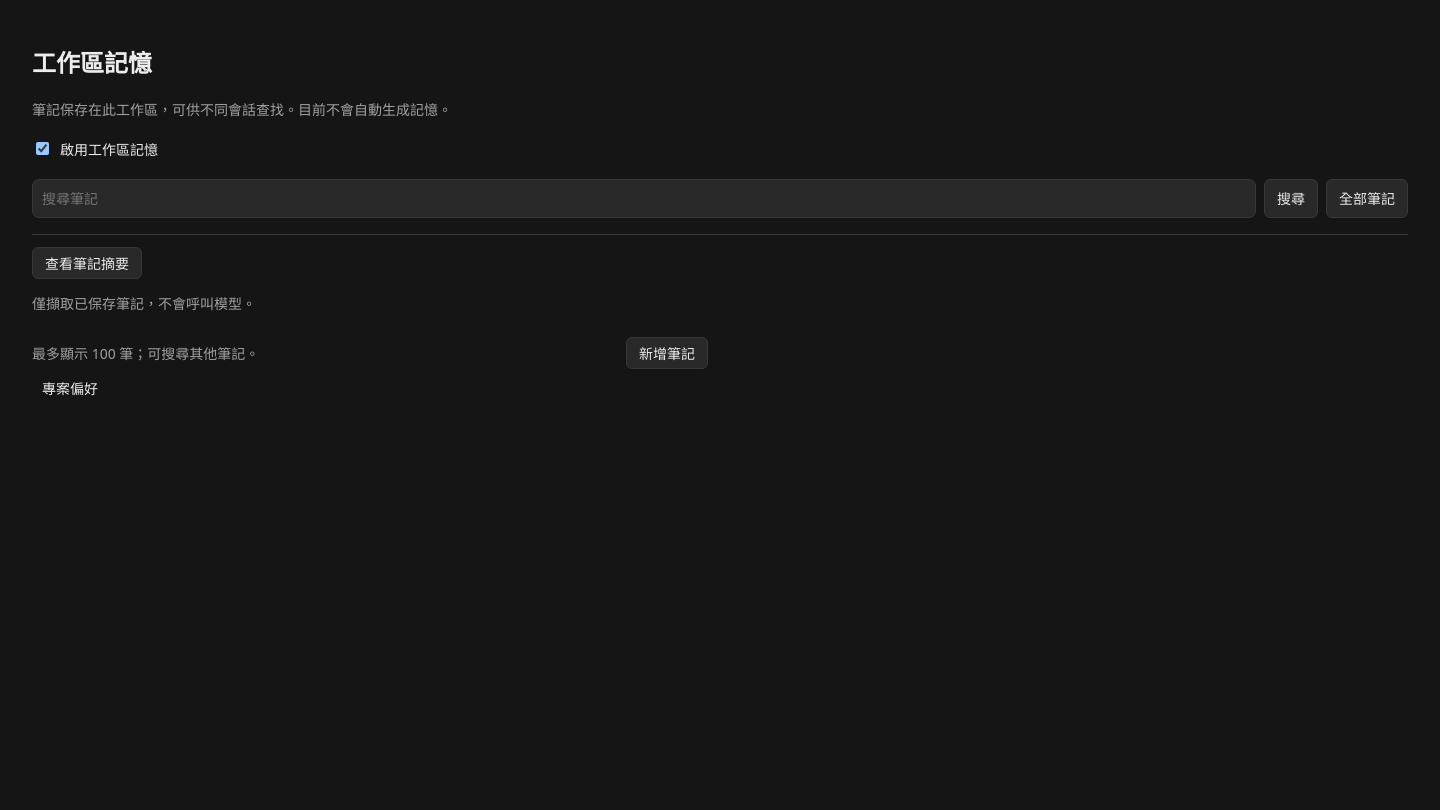
Scenario: workspace memory › opens a new-note editor only on request and preserves a draft when closed
Expected: the button "專案偏好" is shown, 32,369 -> 708,407
Expected: the field labelled "標題" is not shown
Click the button "新增筆記" at (667, 353), box 626,337 -> 708,369
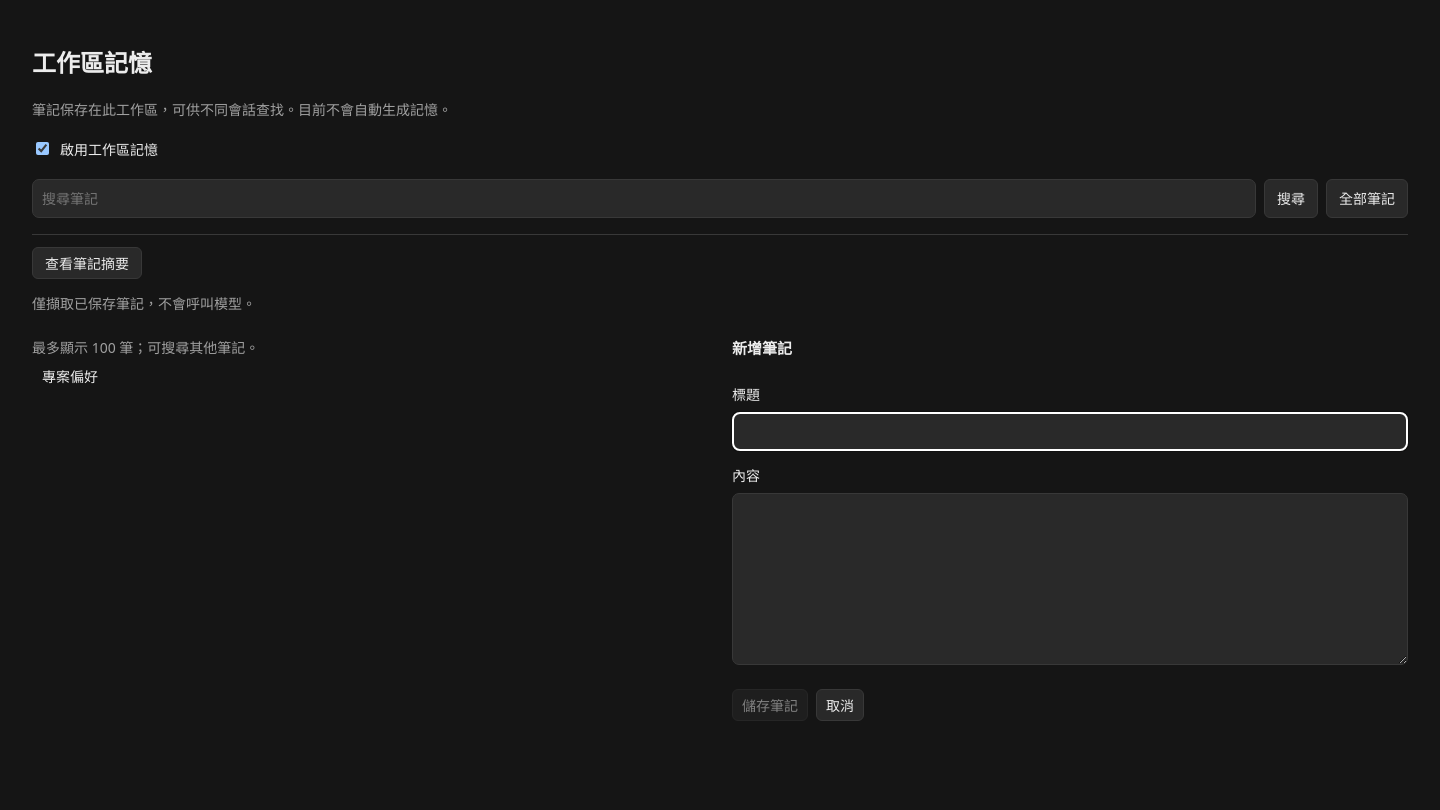
Type "未完成草稿" into the field labelled "標題" at (1070, 432), box 732,412 -> 1408,451
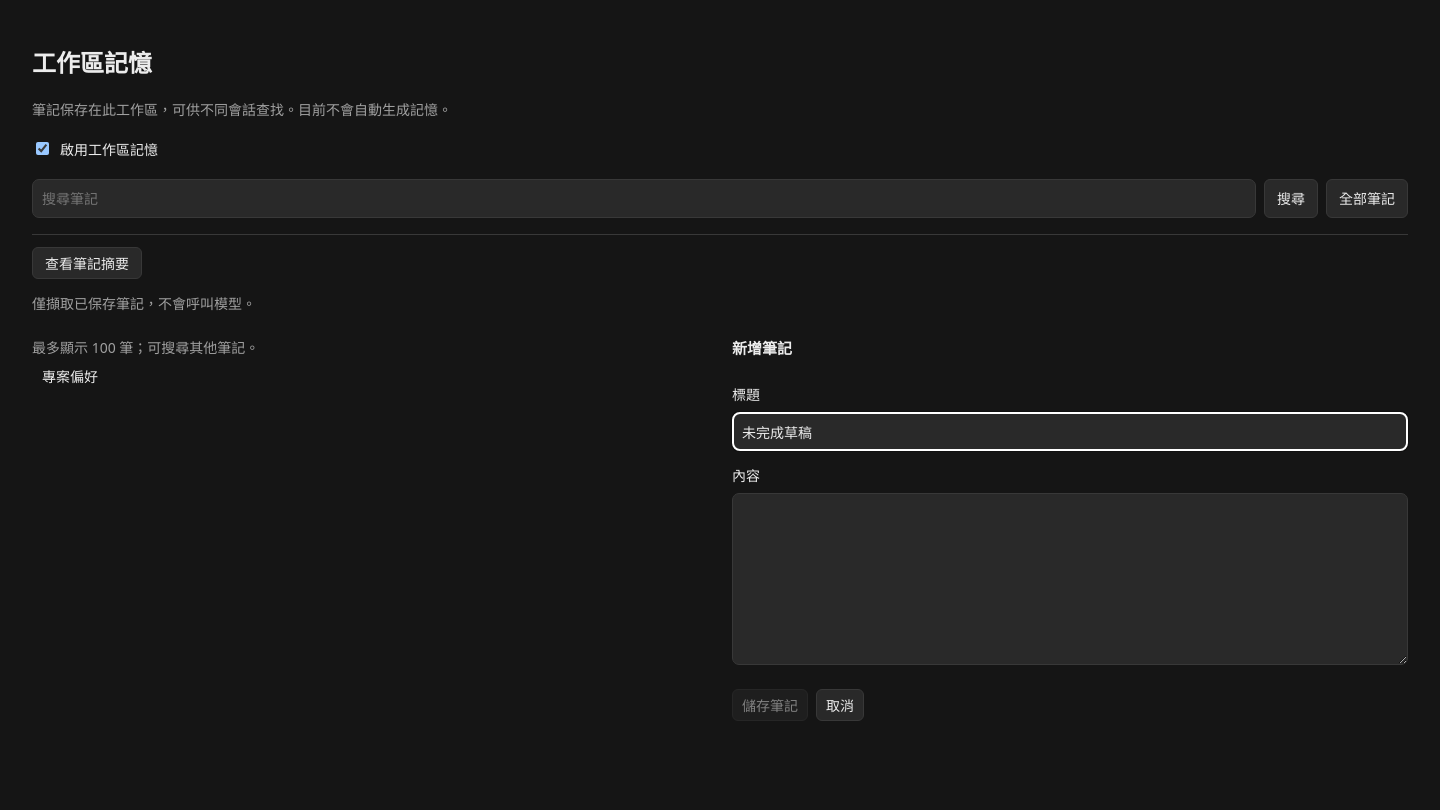
Click the button "取消" at (840, 705), box 816,689 -> 864,721
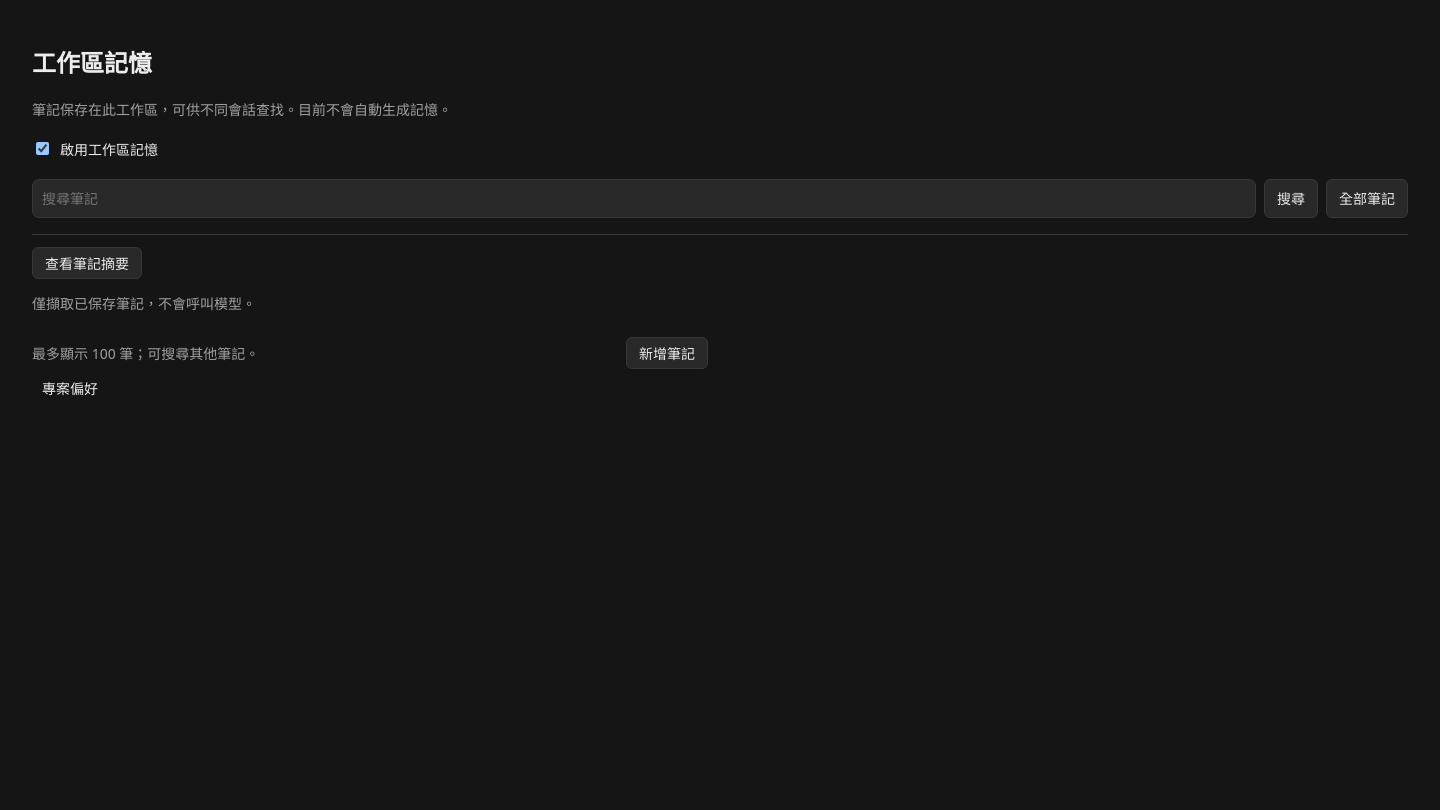
Expected: the label labelled "標題" is gone
Click the button "新增筆記" at (667, 353), box 626,337 -> 708,369
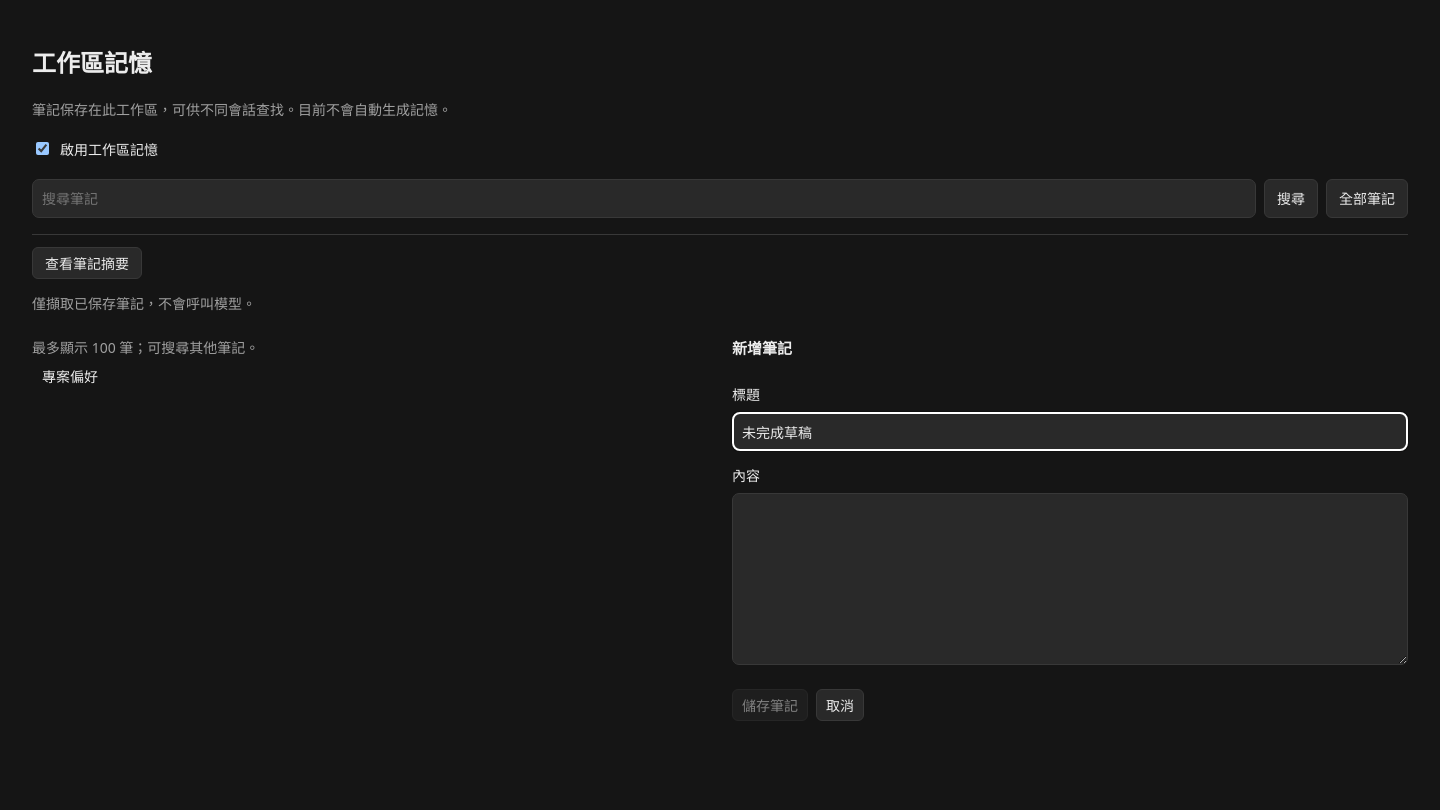
Expected: the field labelled "標題" holds "未完成草稿", 732,412 -> 1408,451
